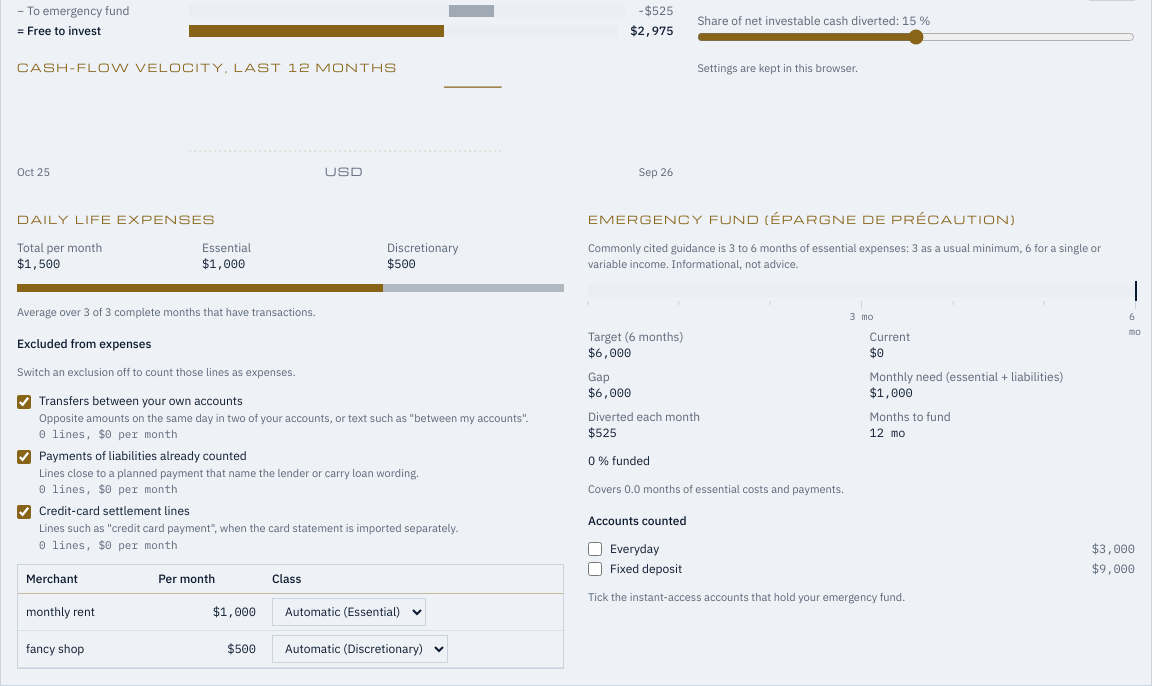
CashFlowWaterfall › does not count a marked term deposit and says why
(page scrolled)
Click the checkbox named "Count Fixed deposit as emergency fund" at (595, 569), box [588,562,602,576]
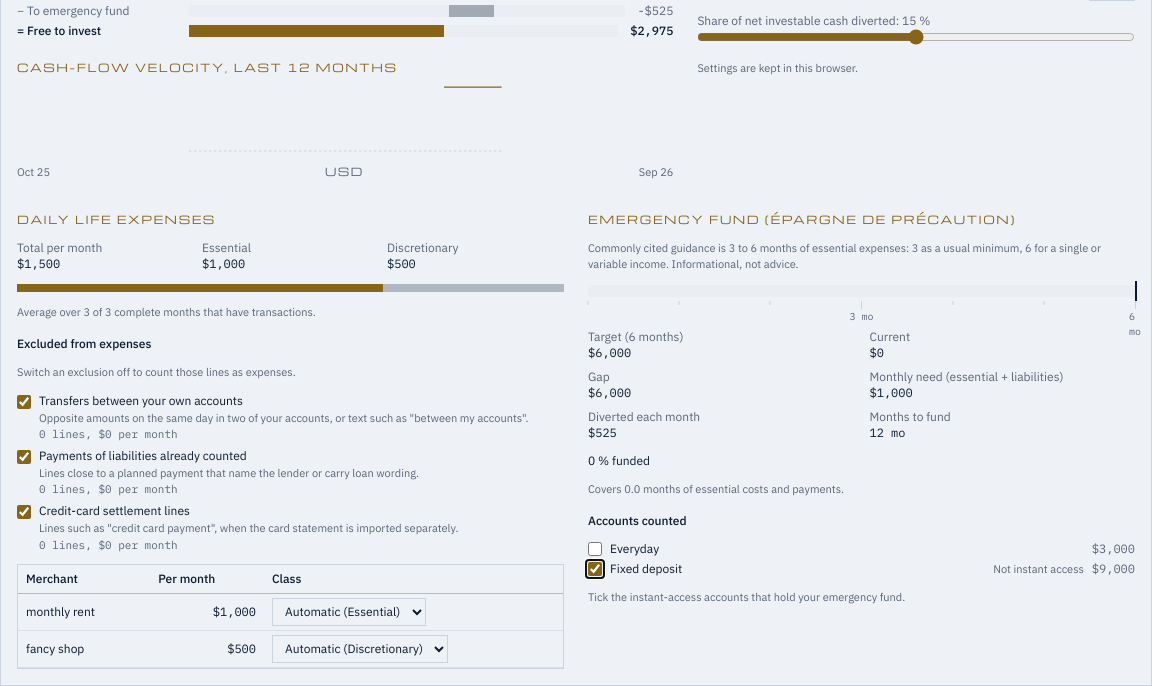
Check: the text "0 % funded" is shown, box [588,452,650,468]
Check: the text "Not instant access" is shown, box [993,562,1084,576]
